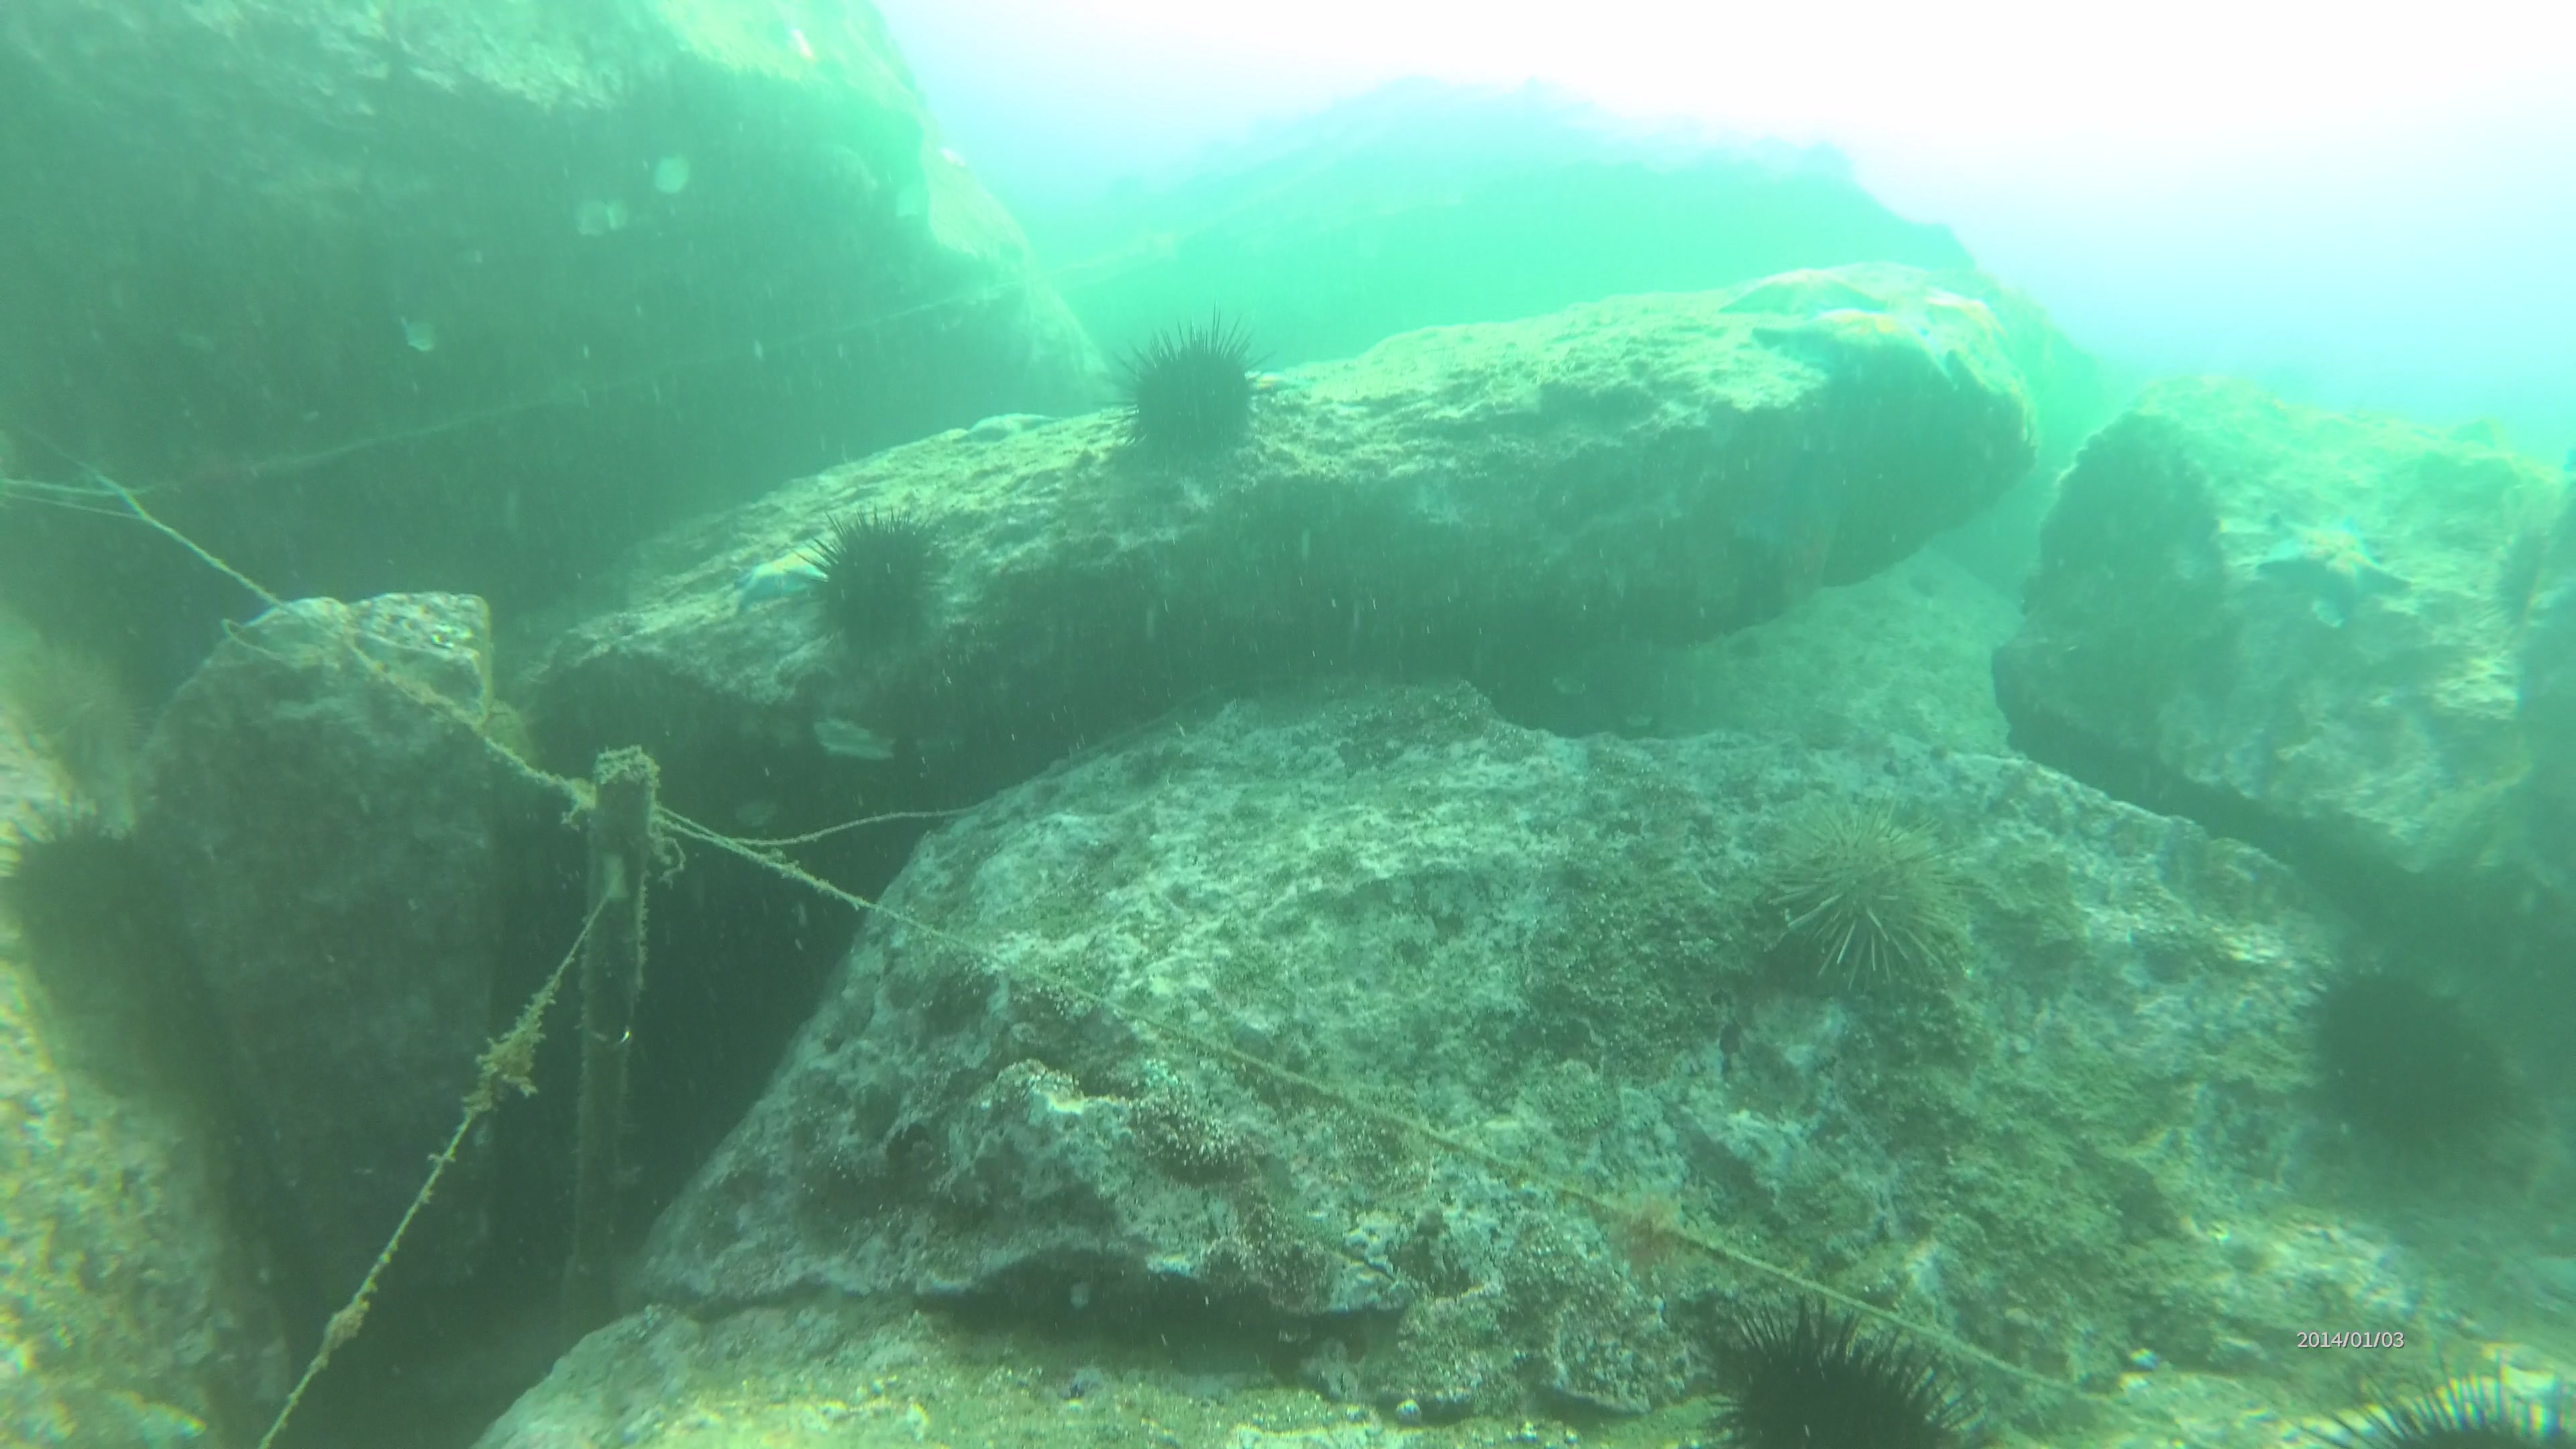echinus: (1775, 816, 1967, 1007), (1723, 1304, 1971, 1449), (2304, 957, 2498, 1131), (1116, 322, 1269, 474), (9, 801, 154, 950), (816, 513, 950, 639)
starfish: (1780, 304, 1974, 387), (2259, 502, 2401, 610), (1725, 260, 1897, 326), (725, 545, 832, 614), (1916, 283, 2012, 349)
